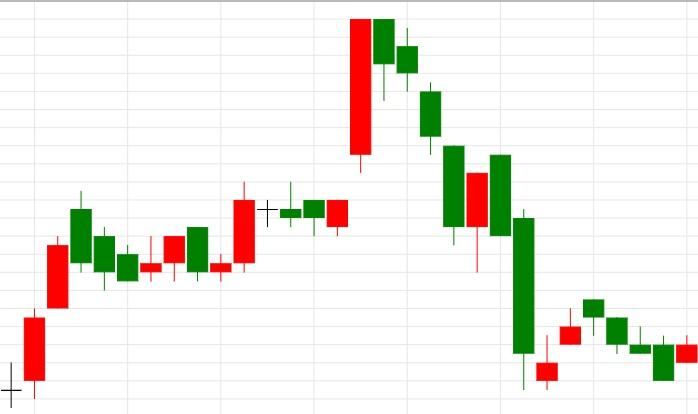bearish_engulfing_fall: (116, 226, 209, 281)
three_black_crows_fall: (536, 299, 652, 391)
